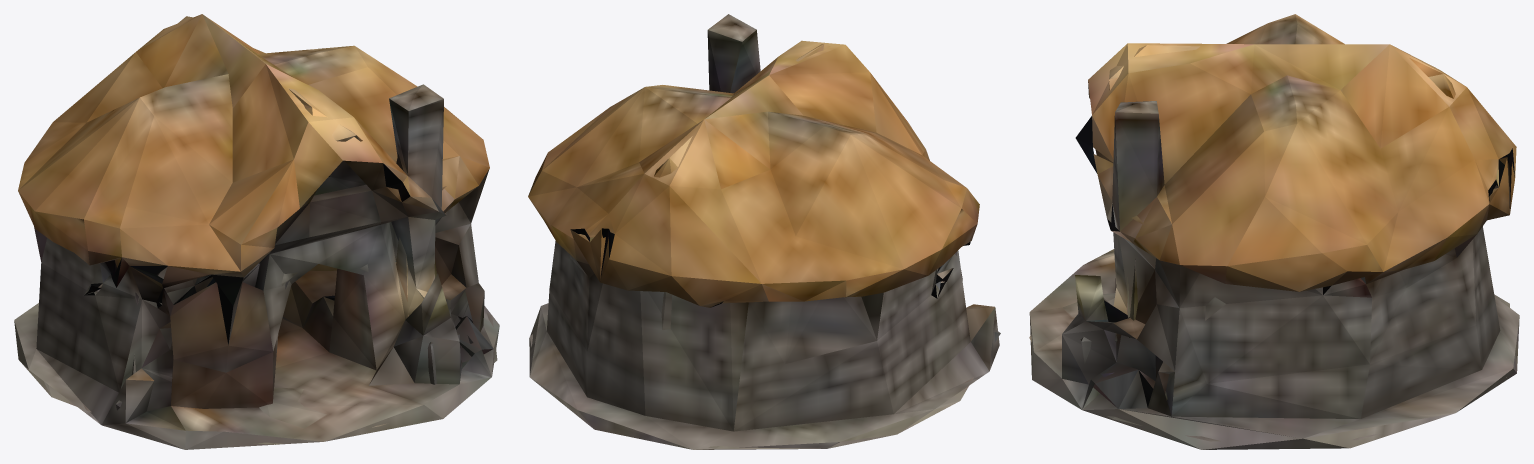
The model's file is blacksmith_thatch_stone_lod1.glb.
3 views of the same model, side by side, from view 1: azimuth 30°, elevation 25°; view 2: azimuth 150°, elevation 25°; view 3: azimuth 270°, elevation 25° (orthographic). The views are drawn at different scales.
Visible parts, largest first — view 1: blacksmith_thatch_stone_lod1; view 2: blacksmith_thatch_stone_lod1; view 3: blacksmith_thatch_stone_lod1.
Boxes of the visible parts, box(x1,y1,x2,y2) form: blacksmith_thatch_stone_lod1: box(14, 14, 499, 449); blacksmith_thatch_stone_lod1: box(528, 14, 1000, 449); blacksmith_thatch_stone_lod1: box(1029, 14, 1519, 449).
Size of the model in its own units: 8.12 by 5.39 by 7.91.
1 material, 1 textured.
